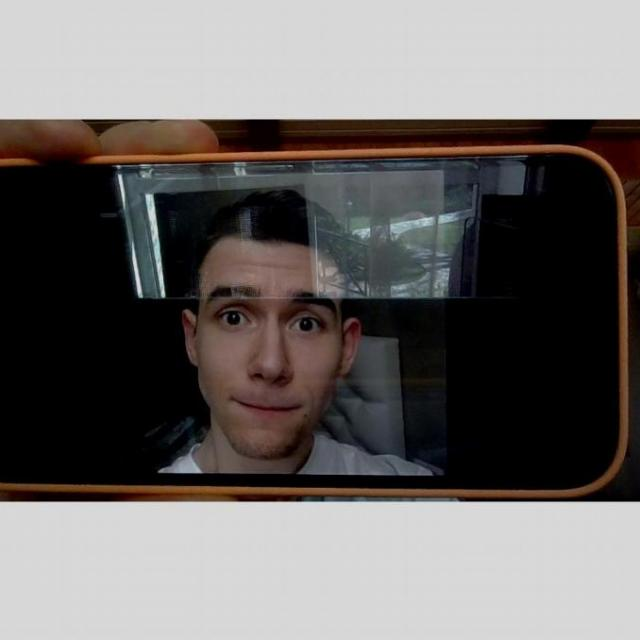device: (0, 152, 631, 497)
